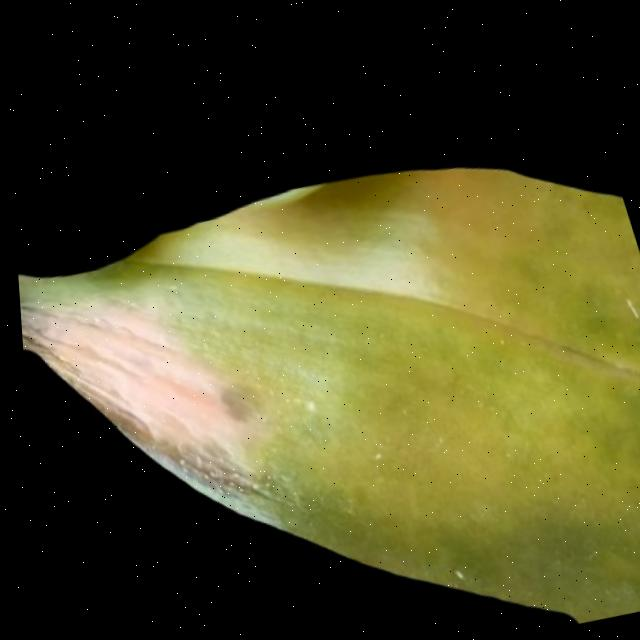mite: (424, 545, 474, 593), (353, 434, 386, 466), (434, 554, 464, 586), (613, 284, 638, 317), (439, 559, 459, 580), (360, 442, 380, 461)
spots: (12, 114, 640, 640)
